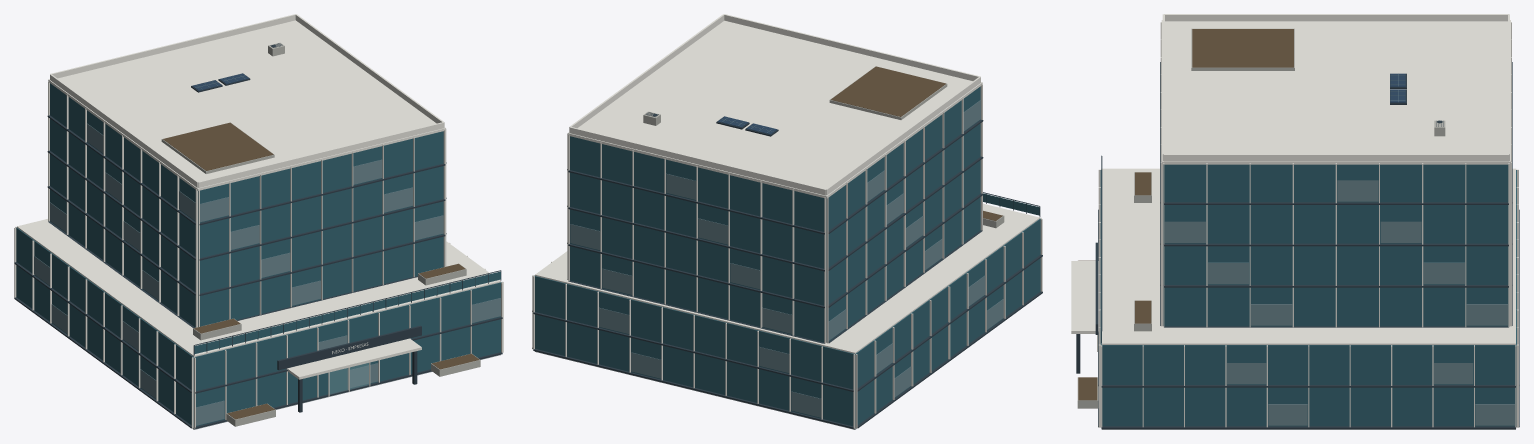
The model's file is Tower_0.fbx.
3 views of the same model, side by side, from view 1: azimuth 30°, elevation 25°; view 2: azimuth 150°, elevation 25°; view 3: azimuth 270°, elevation 25° (orthographic). The views are drawn at different scales.
Visible parts, largest first — view 1: Tower_0.036; view 2: Tower_0.036; view 3: Tower_0.036.
Part boxes in pixels (box(x1,y1,x2,y2)): Tower_0.036: box(14, 14, 503, 429); Tower_0.036: box(532, 14, 1042, 429); Tower_0.036: box(1071, 14, 1519, 429).
Bounding box in the file's own units: 30.55 × 20.87 × 32.48.
